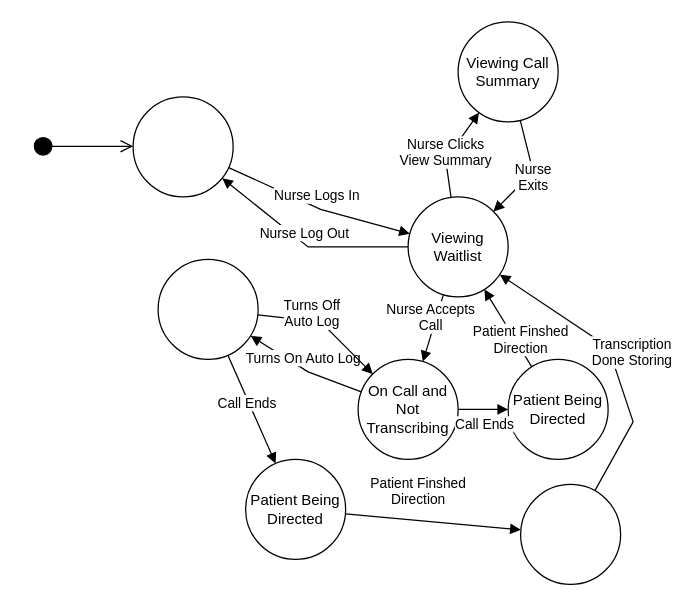
Some shapes in this 694 by 606 pixel diagram are drawn without their labels. The box of each missing label's shape, as (x1, y1, x2, y2) in pixels:
On Call and Transcribing: (157, 258, 258, 359)
System is Idle: (132, 96, 233, 197)
Transcription Storing: (519, 483, 621, 584)
